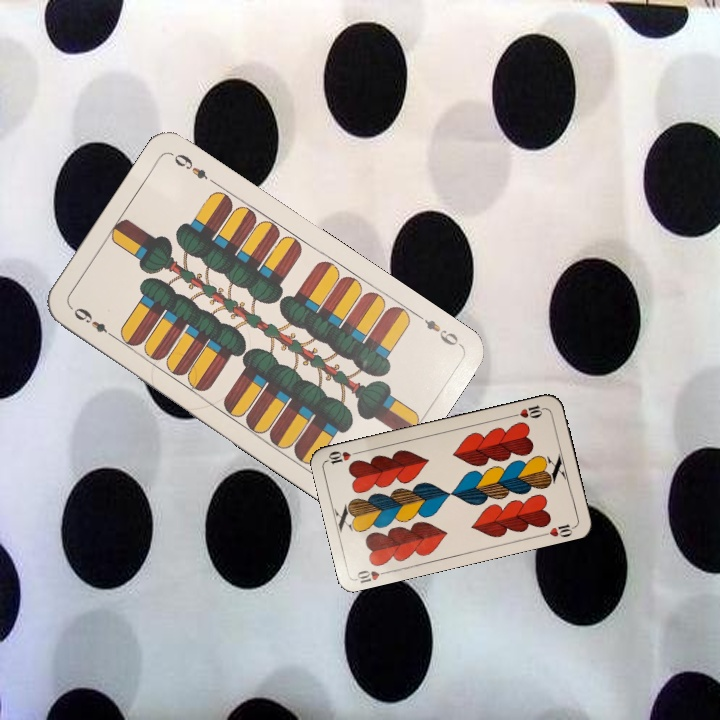E9: (411, 309, 463, 349), (69, 303, 119, 342)
H10: (508, 401, 548, 421), (353, 566, 393, 586)
